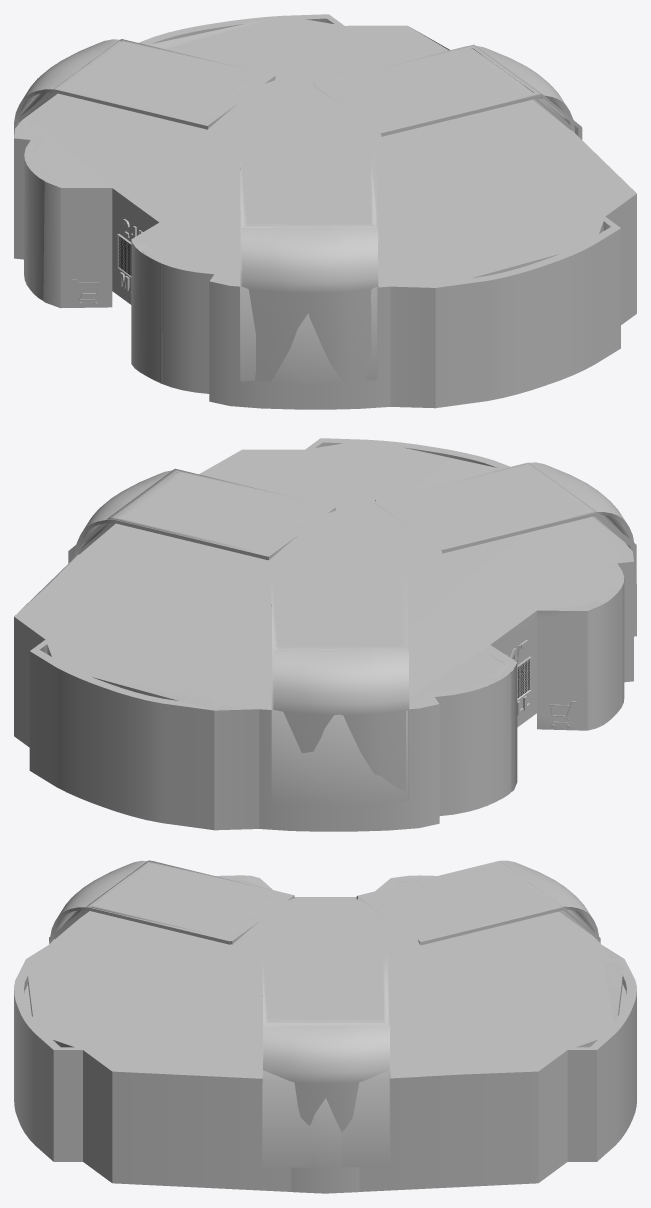
File: Mall_Exterior_Design.fbx
3 views of the same model, one above another, from view 1: azimuth 30°, elevation 25°; view 2: azimuth 150°, elevation 25°; view 3: azimuth 270°, elevation 25° (orthographic). The views are drawn at different scales.
Visible parts, largest first — view 1: Design_L0, Design_L2, Design_L1; view 2: Design_L0, Design_L2, Design_L1; view 3: Design_L2, Design_L0, Design_L1.
Part boxes in pixels (x1,y1,x2,y2): Design_L0: (14, 14, 636, 409); Design_L2: (18, 17, 634, 408); Design_L1: (19, 20, 635, 384); Design_L0: (16, 438, 634, 831); Design_L2: (14, 440, 636, 721); Design_L1: (14, 449, 634, 830); Design_L2: (26, 860, 623, 1191); Design_L0: (14, 860, 636, 1193); Design_L1: (53, 861, 623, 1191).
Size of the model in its own units: 272 by 92.56 by 343.
